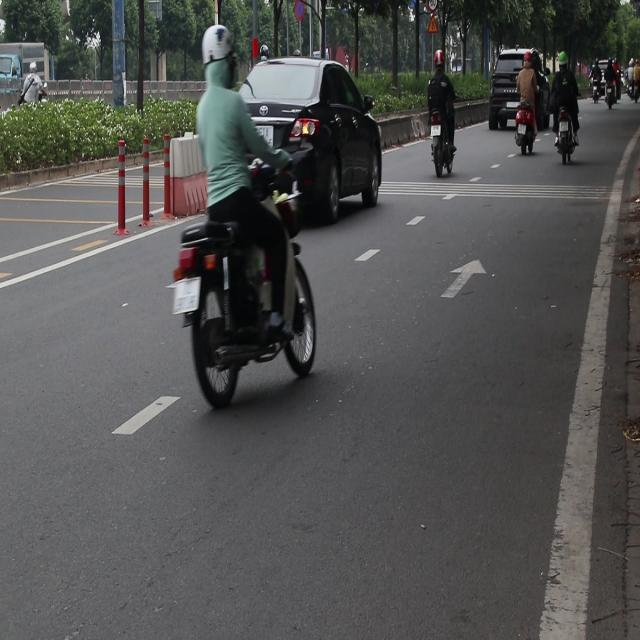car: (236, 56, 384, 226), (490, 48, 546, 132)
motorbike: (170, 190, 320, 408), (426, 112, 462, 180), (557, 105, 574, 177), (514, 104, 538, 154), (625, 60, 640, 100), (605, 82, 617, 110)
truck: (0, 44, 48, 108)
